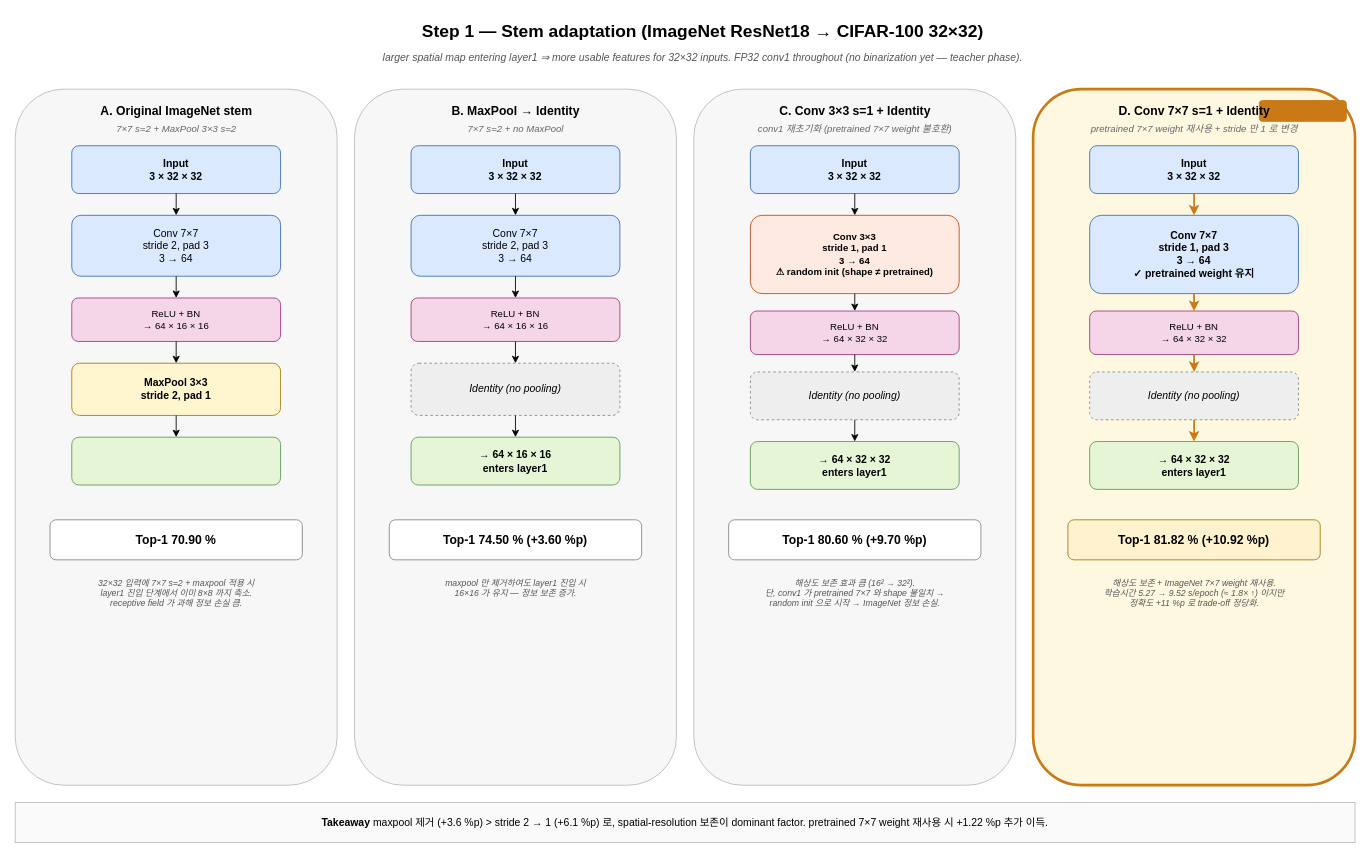
Some shapes in this 1371 by 858 pixel diagram are drawn without their labels. The centre of each missing label's shape, as x and y in pixels:
"→ 64 × 8 × 8 enters layer1" goes at (x=176, y=460).
"★ CHOSEN" goes at (x=1302, y=110).
